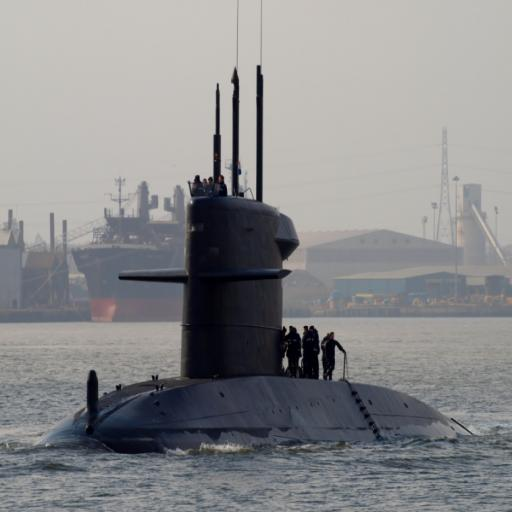submarine: (29, 194, 462, 451)
